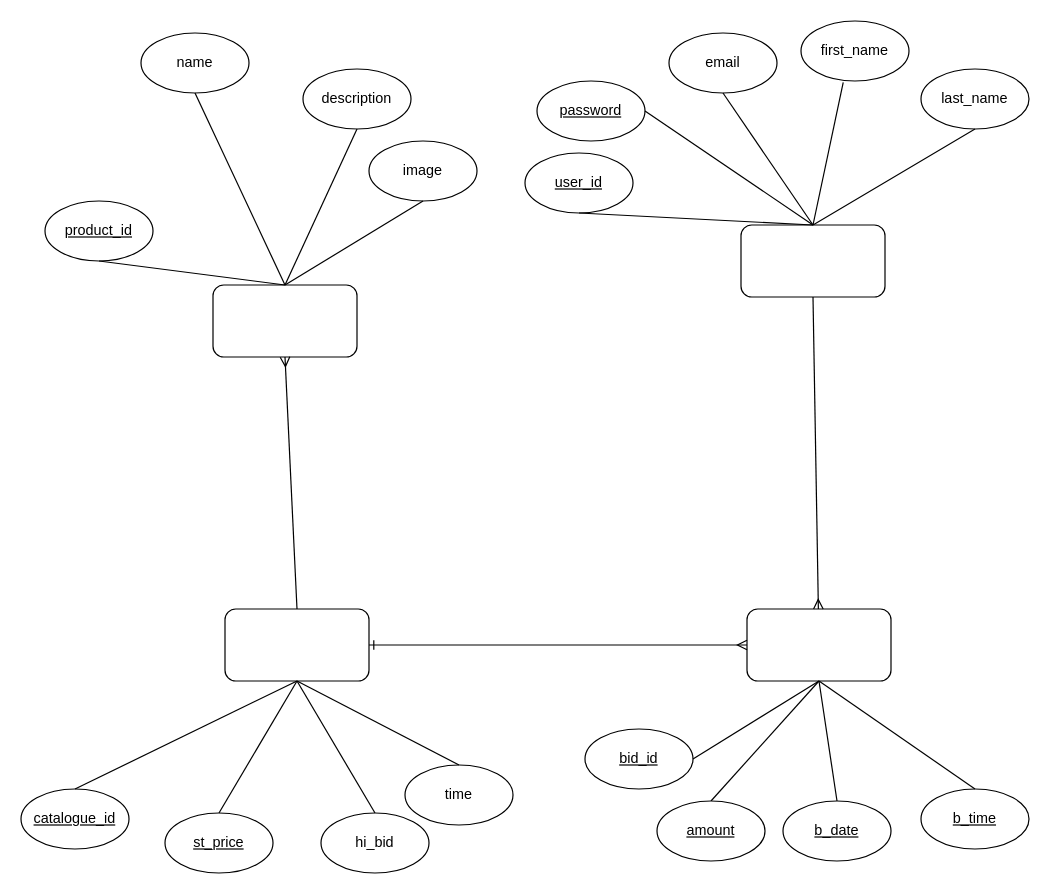
Some shapes in this 1050 by 894 pixel diagram are drawn without their labels. Each missing label, with the centre of its shape:
"bid" goes at (818,644).
"costumer" goes at (812,260).
"product" goes at (284,320).
"sets" goes at (296,644).
